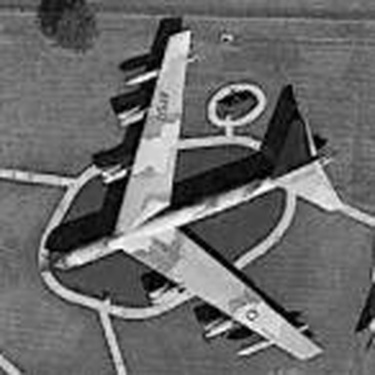airplane: (10, 10, 359, 366)
